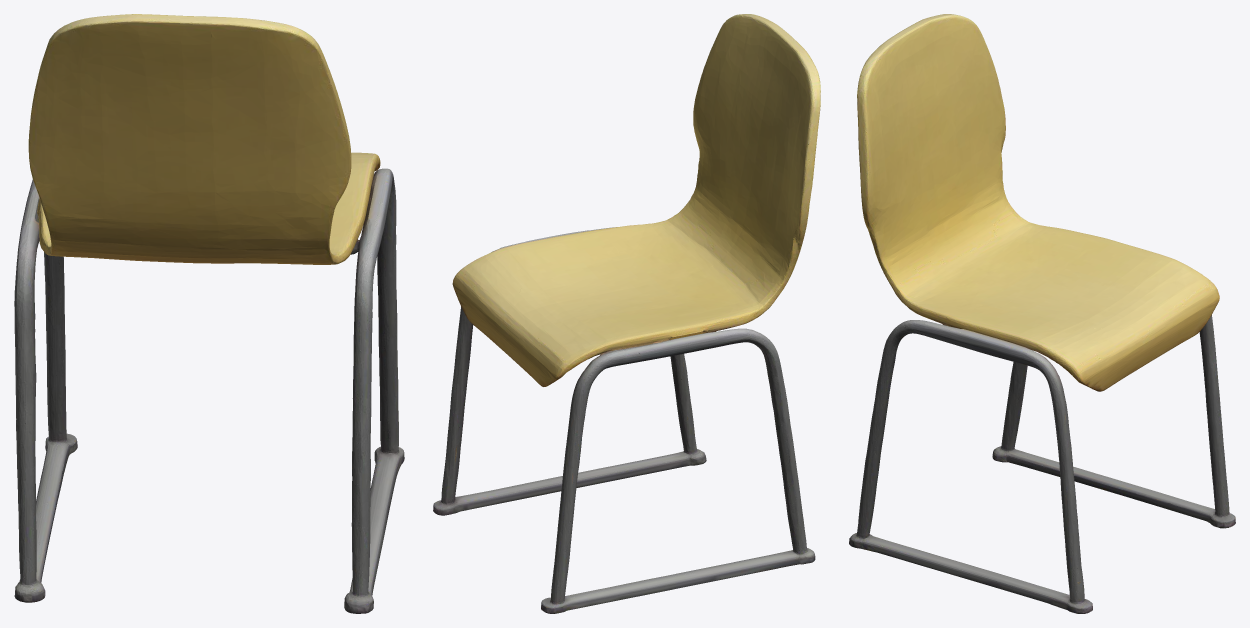
File: light-colored_wooden_chair_at_back_row_left_table_(right)_000.glb
3 renders of one model, left to right at view 1: azimuth 30°, elevation 25°; view 2: azimuth 150°, elevation 25°; view 3: azimuth 270°, elevation 25°, orthographic. The views are drawn at different scales.
Parts seen in each view (by area): view 1: phase2_final_light-colored_wooden_chair_at_back_row_left_tab; view 2: phase2_final_light-colored_wooden_chair_at_back_row_left_tab; view 3: phase2_final_light-colored_wooden_chair_at_back_row_left_tab.
Boxes of the visible parts, x1,y1,x2,y2 form: phase2_final_light-colored_wooden_chair_at_back_row_left_tab: [14, 14, 404, 613]; phase2_final_light-colored_wooden_chair_at_back_row_left_tab: [433, 14, 820, 613]; phase2_final_light-colored_wooden_chair_at_back_row_left_tab: [849, 14, 1235, 613].
Bounding box in the file's own units: 0.3106 × 0.4115 × 0.3146.
1 material, 1 textured.
